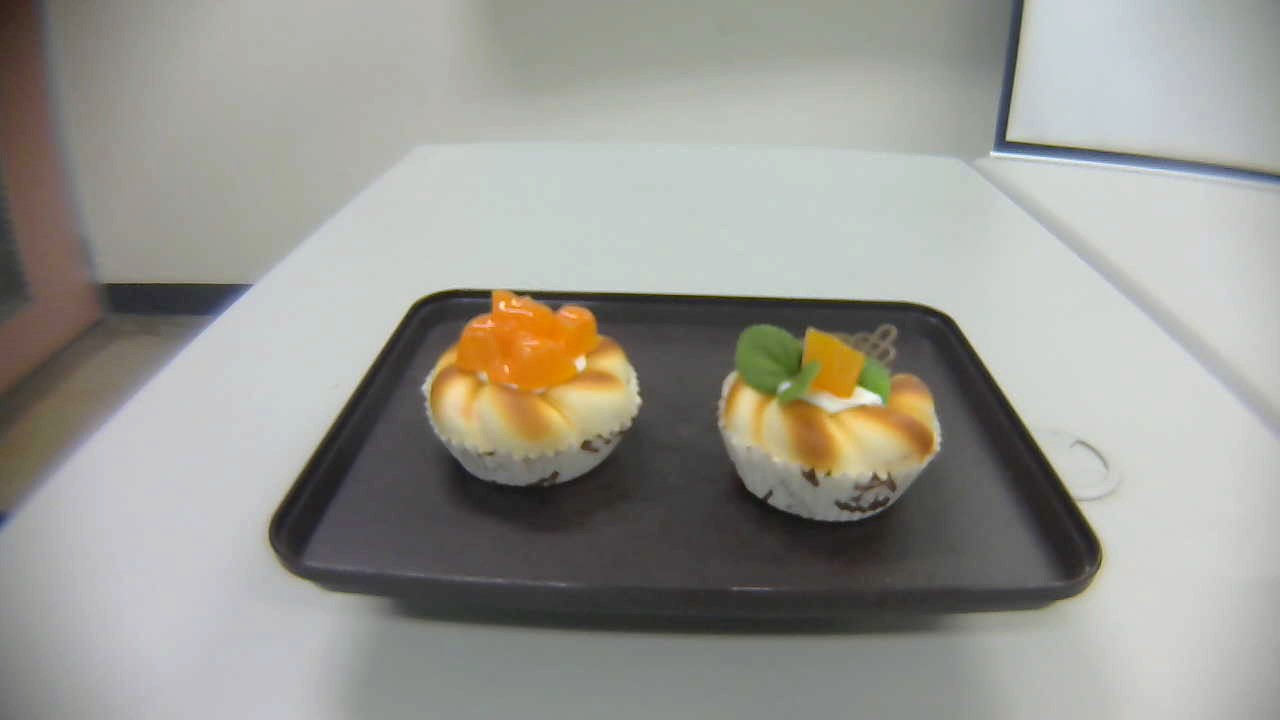fruit tart: (718, 319, 943, 525)
mango tart: (421, 288, 644, 489)
